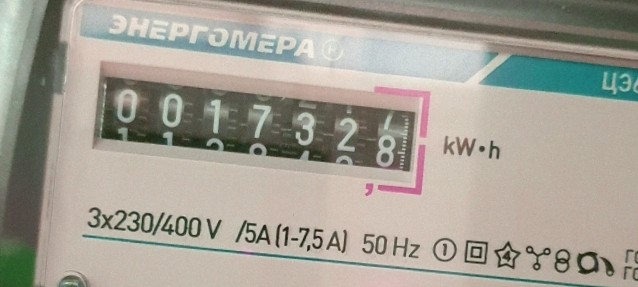0: (111, 84, 140, 125), (159, 89, 185, 129)
1: (203, 94, 225, 135)
2: (334, 114, 359, 153)
3: (292, 109, 317, 147)
7: (247, 100, 273, 141)
8: (374, 130, 395, 167)
screen: (79, 56, 441, 203)
